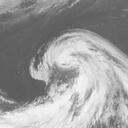cyclone: (29, 28, 107, 96)
